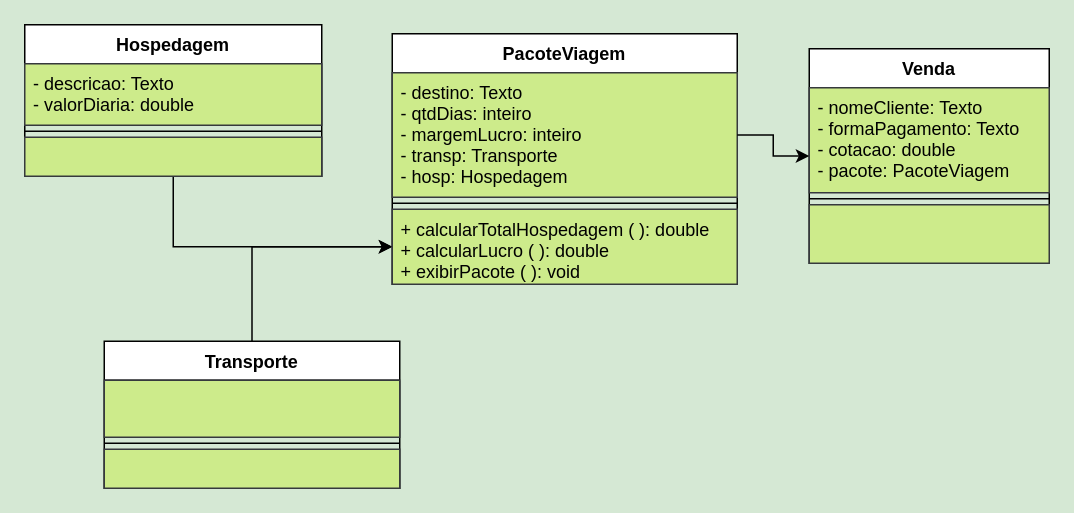
This 1074x513 diagram has some shape labels left out. Here are the shapes that lost their labels. From the top down, the centre of each, then its label:
At point 172,156: "- exibirHospedagem ( ): Texto".
At point 928,233: "+ converterDolar ( ): double + exibirVenda ( ): void".
At point 251,408: "- tipo: Texto - valor: double".
At point 251,468: "+ exibirTransporte ( ): Texto".
